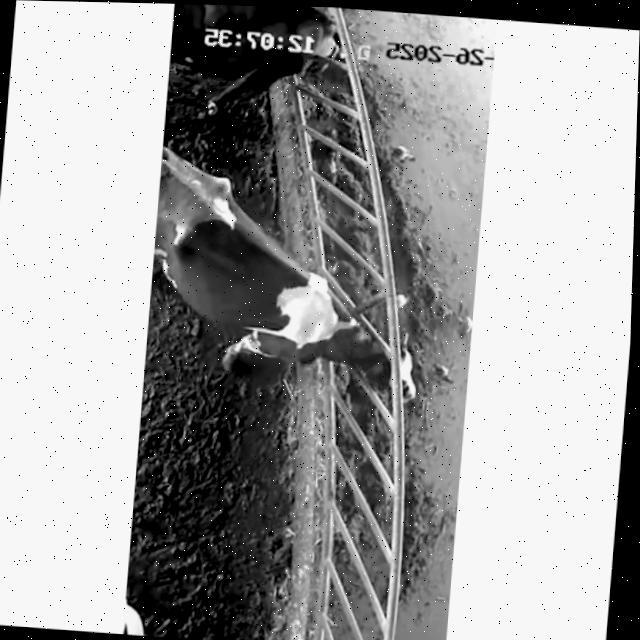eat: (235, 272, 457, 417), (235, 5, 398, 94)
